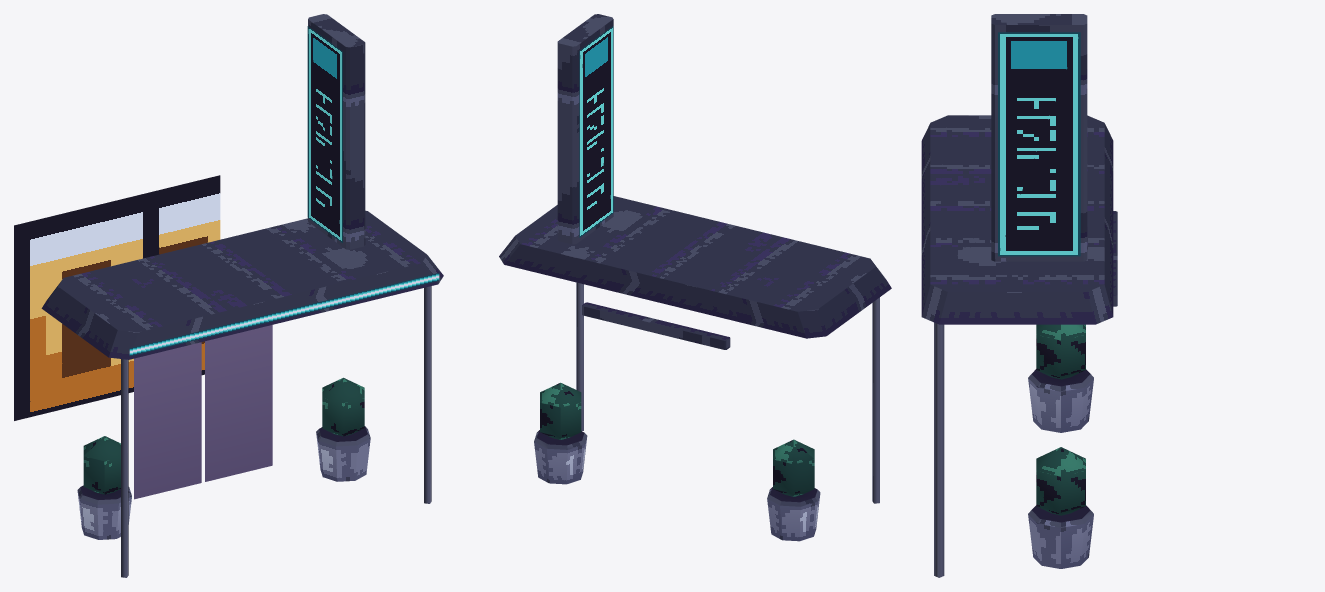
Rendered from cysign.hotel.glb.
The picture shows the model from 3 angles, left to right: view 1: azimuth 30°, elevation 25°; view 2: azimuth 150°, elevation 25°; view 3: azimuth 270°, elevation 25°; orthographic projection. The views are drawn at different scales.
Parts seen in each view (by area): view 1: kit_card_cards, kit_canopy, kit_posts; view 2: kit_canopy, kit_posts, kit_card_cards; view 3: kit_canopy, kit_card_cards, kit_posts.
Part boxes in pixels (box(x1,y1,x2,y2)): kit_card_cards: box(14, 26, 439, 499); kit_canopy: box(41, 14, 443, 539); kit_posts: box(83, 286, 431, 577); kit_canopy: box(499, 14, 891, 541); kit_posts: box(540, 282, 879, 503); kit_card_cards: box(579, 26, 613, 237); kit_canopy: box(921, 14, 1117, 568); kit_card_cards: box(998, 32, 1080, 256); kit_posts: box(934, 322, 1085, 577).
Bounding box in the file's own units: 5.2 × 6.7 × 4.49.
11 materials, 9 textured.
